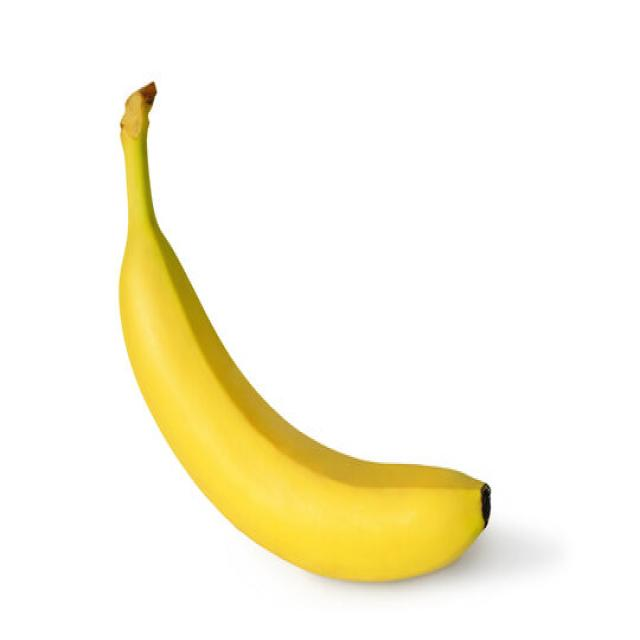non_orange: (116, 79, 492, 591)
